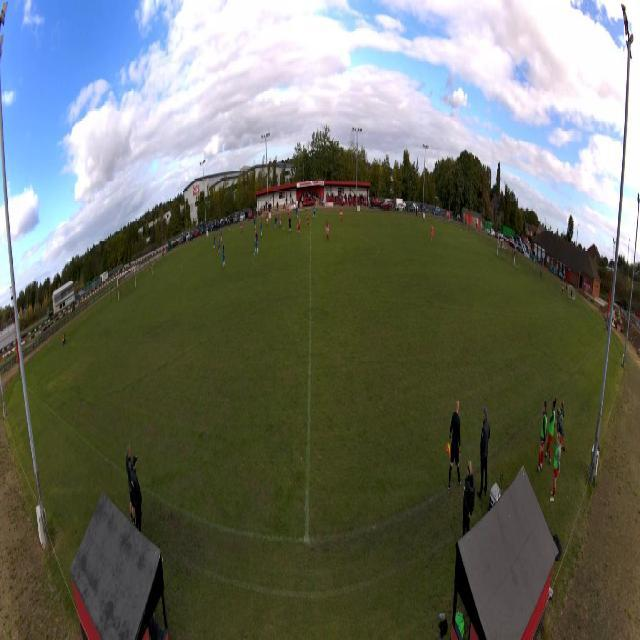ball: (282, 227, 284, 231)
player: (254, 233, 259, 257), (222, 244, 226, 270), (325, 218, 329, 242), (297, 215, 301, 239), (288, 214, 292, 236), (306, 209, 310, 229), (217, 236, 221, 255), (312, 204, 316, 221), (259, 221, 263, 238), (294, 204, 298, 220), (279, 214, 283, 230), (274, 215, 278, 231), (431, 224, 434, 243), (340, 207, 343, 225), (151, 263, 154, 280), (254, 216, 257, 232), (213, 234, 216, 250), (266, 213, 269, 228), (288, 207, 291, 221), (217, 232, 219, 249), (220, 227, 222, 243), (240, 220, 242, 235), (255, 226, 257, 238)
